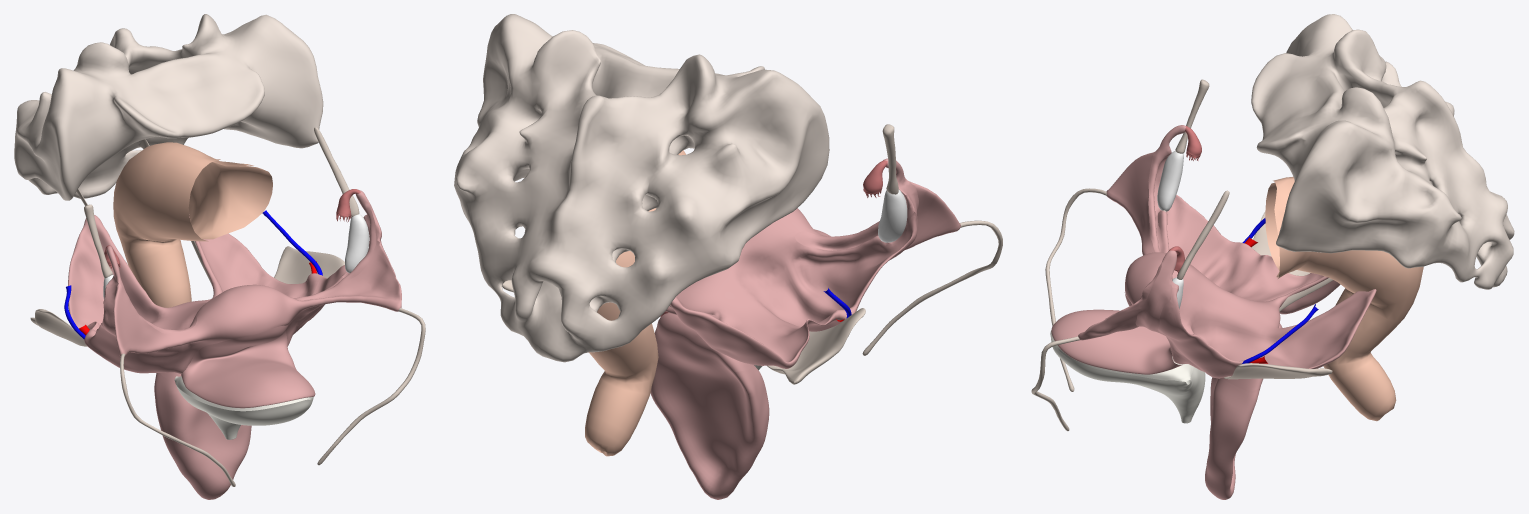
File: pelvic-source.glb
The picture shows the model from 3 angles, left to right: view 1: azimuth 30°, elevation 25°; view 2: azimuth 150°, elevation 25°; view 3: azimuth 270°, elevation 25°; orthographic projection. The views are drawn at different scales.
Visible parts, largest first — view 1: VH_F_sacrum, VH_F_broad_ligament, VH_F_rectum, VH_F_uterovesical_pouch, VH_F_vagina, VH_F_fundus_of_urinary_bladder_base, VH_F_left_cardinal_ligament_of_uterus, VH_F_mesosalpinx_L, VH_F_right_round_ligament_of_uterus, VH_F_left_ovary, VH_F_mesosalpinx_R, VH_F_right_cardinal_ligament_of_uterus (+4 smaller); view 2: VH_F_sacrum, VH_F_broad_ligament, VH_F_vagina, VH_F_rectum, VH_F_cervicovaginal_junction, VH_F_right_cardinal_ligament_of_uterus, VH_F_mesosalpinx_R, VH_F_left_round_ligament_of_uterus, VH_F_right_ovary, VH_F_suspensory_ligament_of_ovary_R; view 3: VH_F_sacrum, VH_F_broad_ligament, VH_F_rectum, VH_F_uterovesical_pouch, VH_F_vagina, VH_F_fundus_of_urinary_bladder_base, VH_F_mesosalpinx_L, VH_F_mesosalpinx_R, VH_F_left_cardinal_ligament_of_uterus, VH_F_right_ovary, VH_F_left_round_ligament_of_uterus, VH_F_fundus_of_urinary_bladder_dome (+3 smaller).
Part boxes in pixels (x1,y1,x2,y2): VH_F_sacrum: (14, 14, 323, 200); VH_F_broad_ligament: (68, 204, 401, 374); VH_F_rectum: (113, 142, 272, 307); VH_F_uterovesical_pouch: (181, 325, 315, 408); VH_F_vagina: (154, 373, 251, 499); VH_F_fundus_of_urinary_bladder_base: (176, 385, 312, 434); VH_F_left_cardinal_ligament_of_uterus: (274, 246, 344, 283); VH_F_mesosalpinx_L: (291, 190, 376, 322); VH_F_right_round_ligament_of_uterus: (317, 308, 425, 465); VH_F_left_ovary: (345, 214, 369, 273); VH_F_mesosalpinx_R: (103, 246, 196, 343); VH_F_right_cardinal_ligament_of_uterus: (30, 309, 87, 346); VH_F_sacrum: (454, 14, 829, 362); VH_F_broad_ligament: (665, 181, 960, 368); VH_F_vagina: (650, 354, 769, 499); VH_F_rectum: (585, 150, 685, 456); VH_F_cervicovaginal_junction: (654, 313, 751, 371); VH_F_right_cardinal_ligament_of_uterus: (767, 308, 865, 384); VH_F_mesosalpinx_R: (795, 158, 918, 250); VH_F_left_round_ligament_of_uterus: (862, 220, 1002, 355); VH_F_right_ovary: (878, 189, 907, 242); VH_F_suspensory_ligament_of_ovary_R: (882, 124, 898, 194); VH_F_sacrum: (1251, 14, 1514, 289); VH_F_broad_ligament: (1078, 152, 1376, 378); VH_F_rectum: (1265, 177, 1423, 421); VH_F_uterovesical_pouch: (1051, 292, 1183, 374); VH_F_vagina: (1205, 377, 1260, 499); VH_F_fundus_of_urinary_bladder_base: (1051, 338, 1205, 417); VH_F_mesosalpinx_L: (1135, 250, 1176, 333); VH_F_mesosalpinx_R: (1148, 125, 1185, 252); VH_F_left_cardinal_ligament_of_uterus: (1223, 363, 1332, 379); VH_F_right_ovary: (1157, 151, 1183, 211); VH_F_left_round_ligament_of_uterus: (1045, 188, 1107, 391); VH_F_fundus_of_urinary_bladder_dome: (1050, 330, 1193, 381).
Bounding box in the file's own units: 0.1471 × 0.195 × 0.1924.
